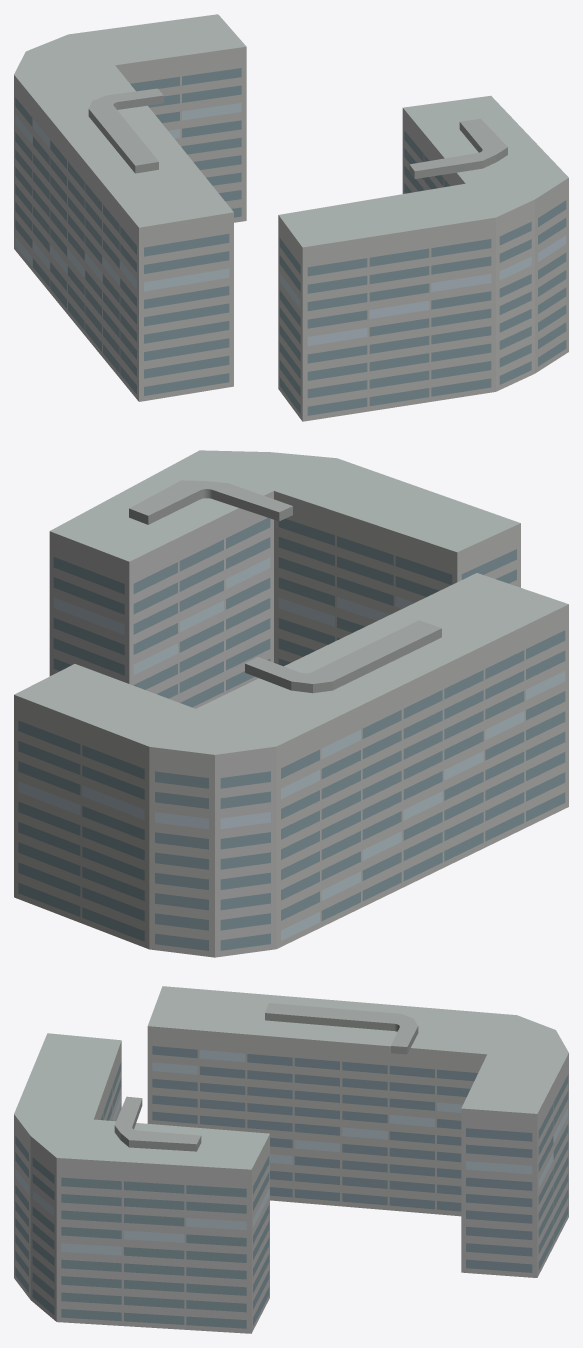
Rendered from apt-a15282403.glb.
The picture shows the model from 3 angles, top to bottom: view 1: azimuth 30°, elevation 25°; view 2: azimuth 150°, elevation 25°; view 3: azimuth 270°, elevation 25°; orthographic projection. The views are drawn at different scales.
Parts seen in each view (by area): view 1: apt-a15282403; view 2: apt-a15282403; view 3: apt-a15282403.
Boxes of the visible parts, x1=… form: apt-a15282403: x1=14, y1=14, x2=568, y2=421; apt-a15282403: x1=14, y1=450, x2=568, y2=957; apt-a15282403: x1=14, y1=986, x2=568, y2=1333.
Bounding box in the file's own units: 73.14 × 31.87 × 93.45.
